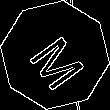M_NE: (21, 22, 89, 88)
